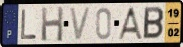0: (95, 7, 112, 41)
A: (116, 6, 144, 41)
B: (142, 6, 165, 41)
H: (40, 5, 64, 43)
L: (20, 9, 38, 41)
V: (68, 6, 93, 42)
